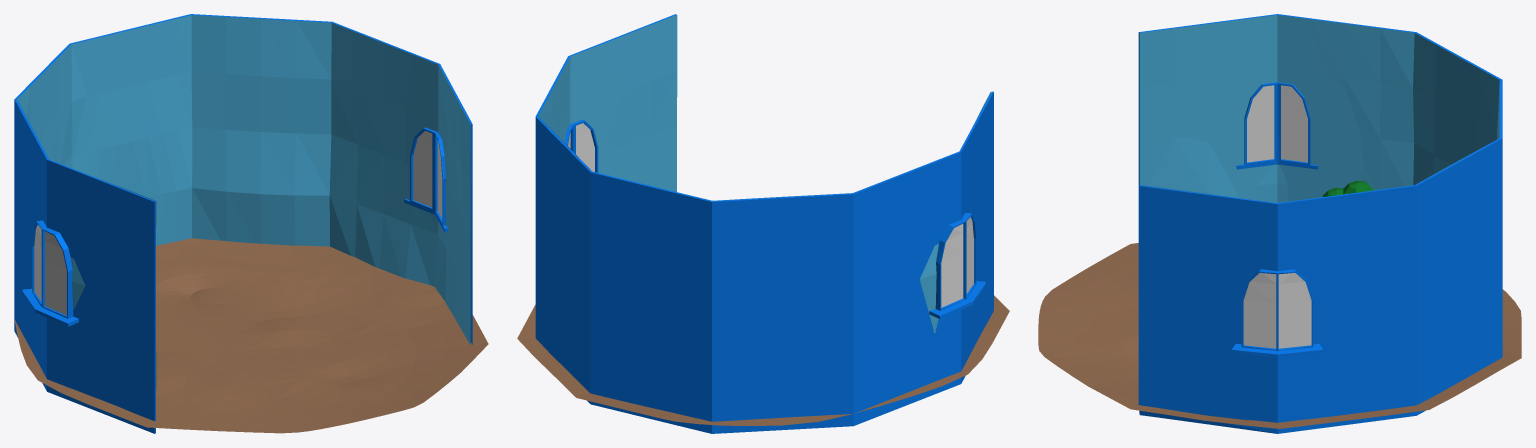
File: Torre inteira.dae
3 renders of one model, left to right at view 1: azimuth 30°, elevation 25°; view 2: azimuth 150°, elevation 25°; view 3: azimuth 270°, elevation 25°, orthographic.
Visible parts, largest first — view 1: Torre.002, Chao Terra.001, Torre.001; view 2: Torre.001, Torre.002, Chao Terra.001; view 3: Torre.001, Torre.002, Chao Terra.001.
Boxes of the visible parts, x1,y1,x2,y2 form: Torre.002: (17,15,470,389); Chao Terra.001: (14,238,488,433); Torre.001: (14,14,472,433); Torre.001: (535,14,993,433); Torre.002: (538,15,990,333); Chao Terra.001: (517,295,1009,425); Torre.001: (1138,14,1502,433); Torre.002: (1139,15,1499,416); Chao Terra.001: (1038,243,1521,428).
Bounding box in the file's own units: 42.73 × 42.98 × 22.57.
